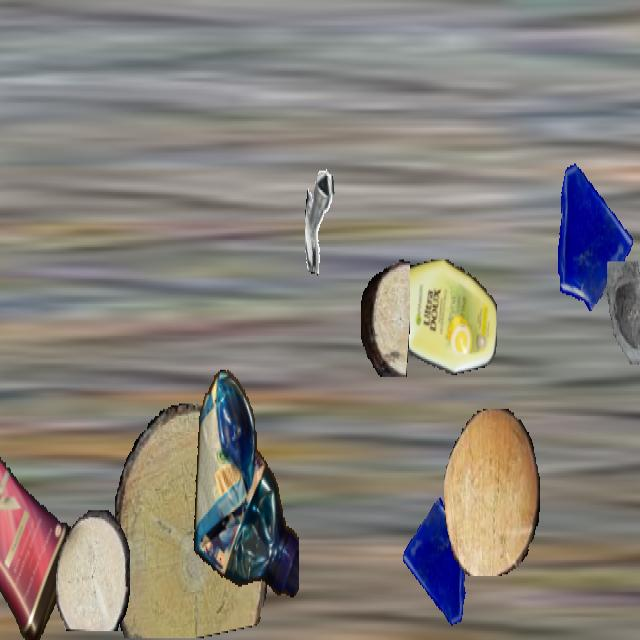glass: (545, 151, 635, 311), (401, 498, 479, 636), (601, 262, 640, 382)
metal: (305, 169, 367, 279)
plastic: (190, 366, 298, 608), (0, 393, 76, 638), (384, 259, 496, 377)
wood: (111, 404, 271, 638), (444, 409, 540, 576), (56, 510, 130, 631), (361, 258, 409, 375)
